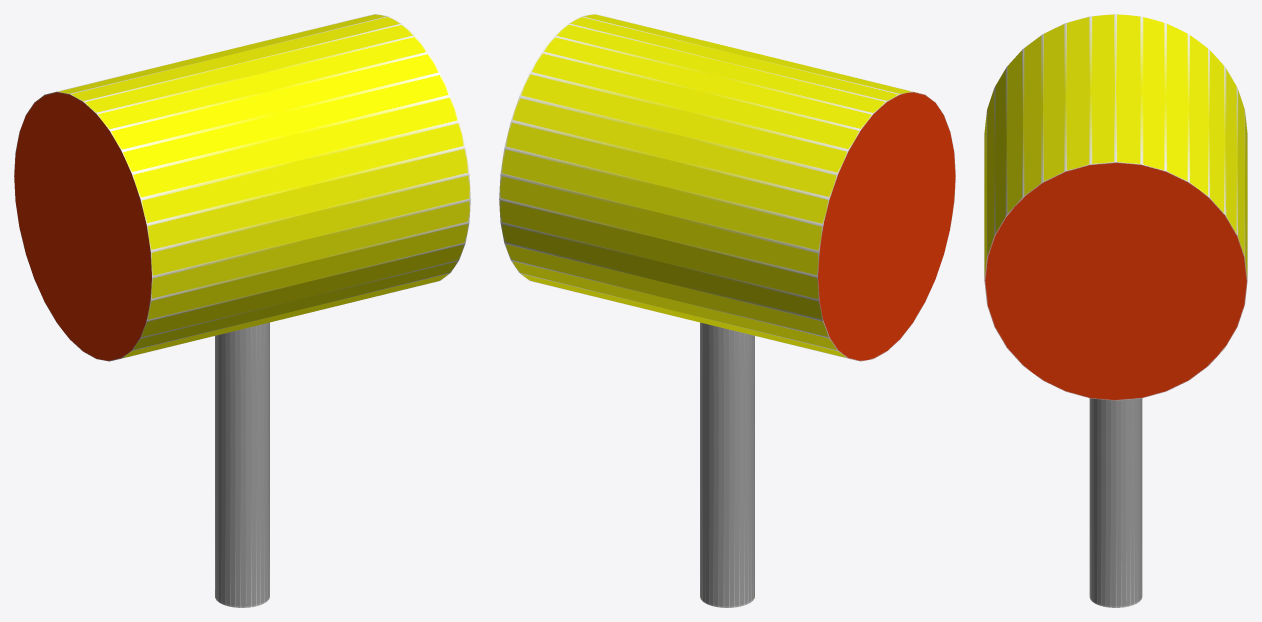
File: Hammer.gltf
3 renders of one model, left to right at view 1: azimuth 30°, elevation 25°; view 2: azimuth 150°, elevation 25°; view 3: azimuth 270°, elevation 25°, orthographic. The views are drawn at different scales.
Parts seen in each view (by area): view 1: 円柱.001; view 2: 円柱.001; view 3: 円柱.001.
Boxes of the visible parts, <box> form: 円柱.001: <box>14,14,470,607</box>; 円柱.001: <box>499,14,955,607</box>; 円柱.001: <box>984,14,1247,607</box>.
Size of the model in its own units: 2 by 3.2 by 1.5.
1 material, 1 textured.
